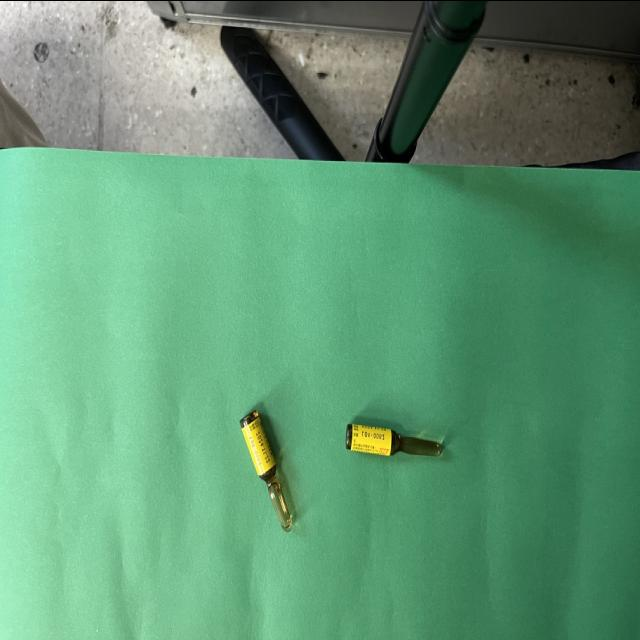Ampoules: (240, 409, 292, 531), (346, 423, 444, 456)
